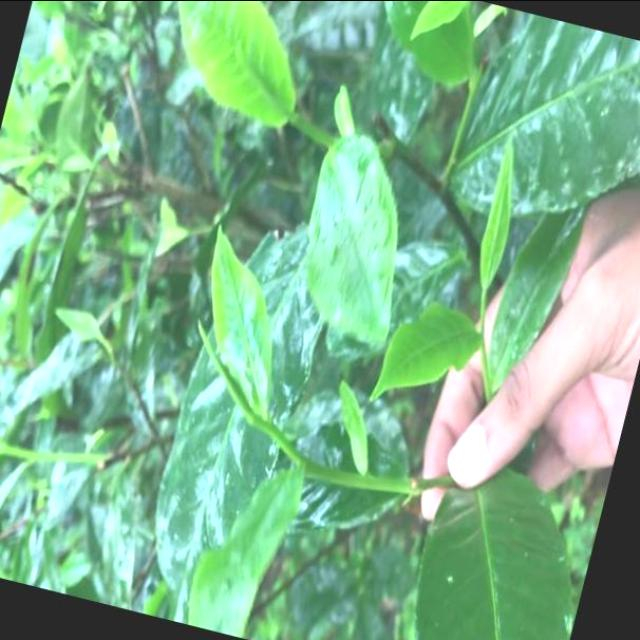Stem: (302, 463, 323, 476), (293, 115, 302, 124), (481, 352, 486, 361)
